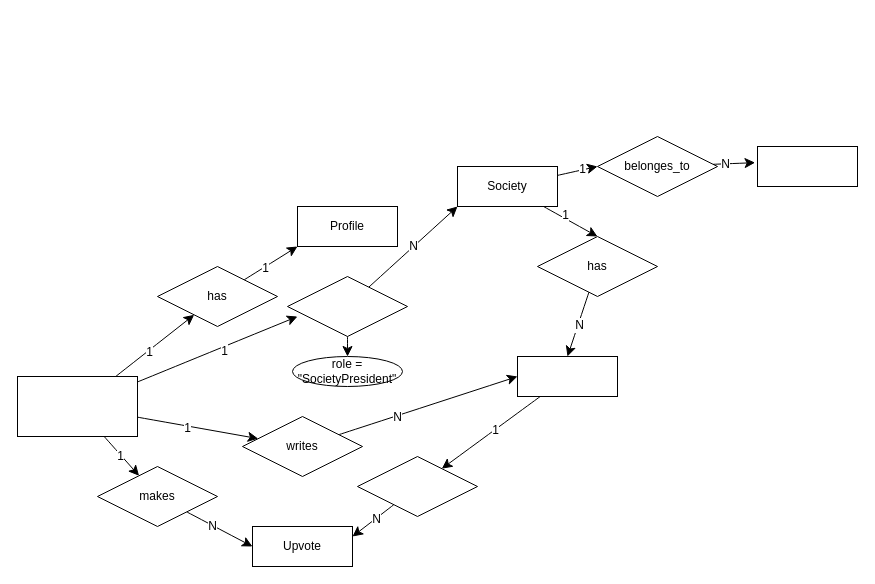
The diagram is 875 pixels wide and 584 high, and some of its shapes have lost their labels. The shapes that lost their labels are listed below. From the top down, each one's centre as x and y in pixels, then its label:
At point 807,166: "Category".
At point 347,306: "creates".
At point 567,376: "Review".
At point 77,406: "User".
At point 417,486: "receives".
